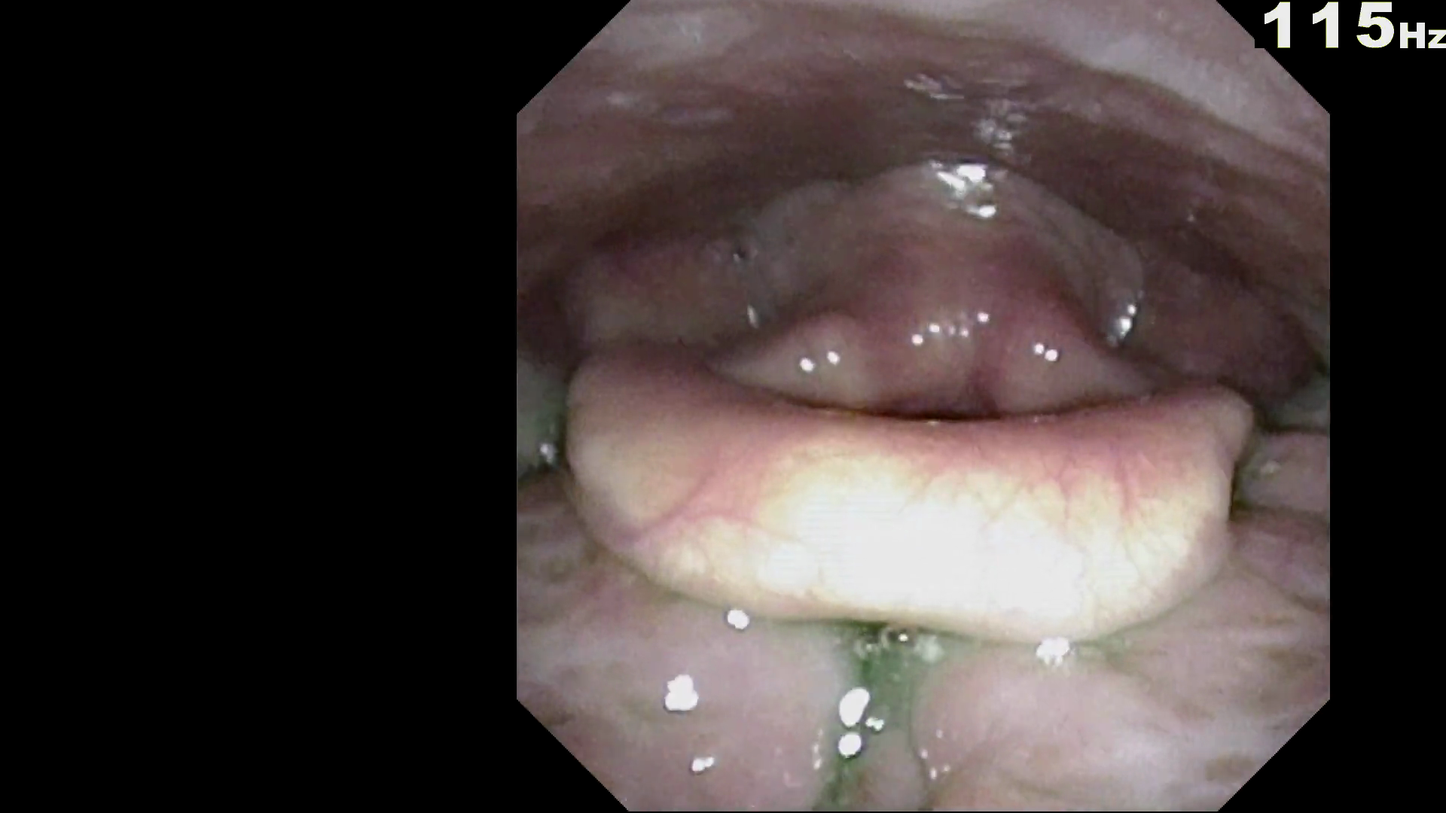epiglottis: (547, 336, 1287, 623)
trachea: (859, 355, 1045, 447), (902, 349, 1019, 475)
